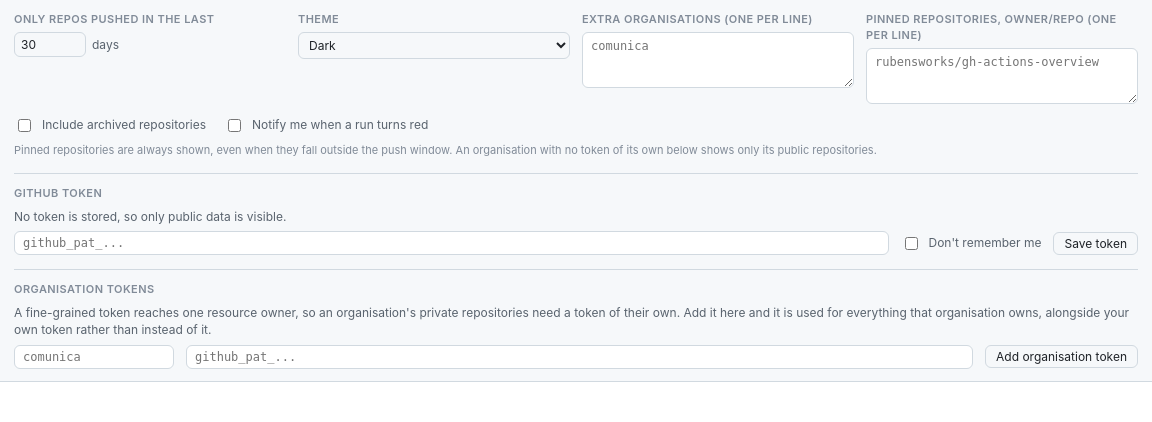
it: SettingsPanel › the token › refuses an empty token
Click the button "Save token" at coordinates (1096, 243), box [1053,232,1138,255]
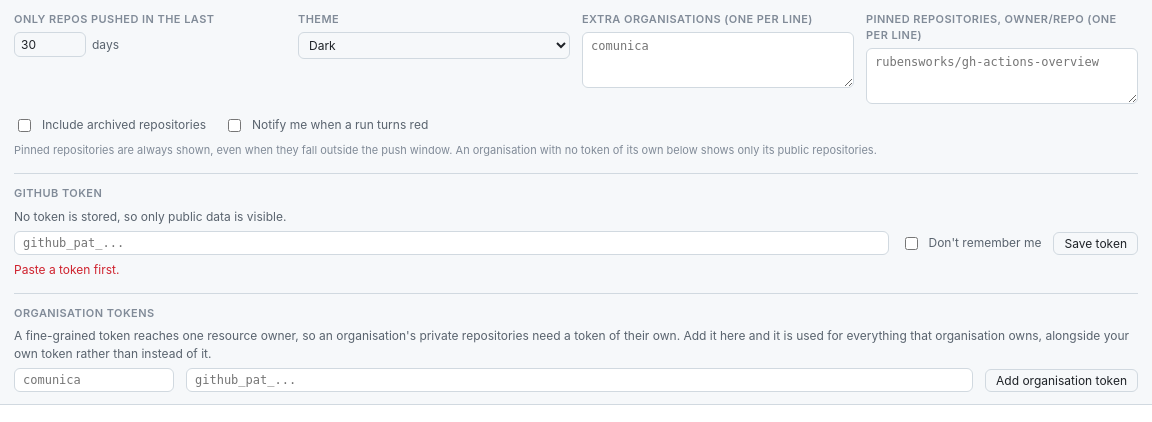
Expected: the message reads "Paste a token first.", [14,262,119,277]
